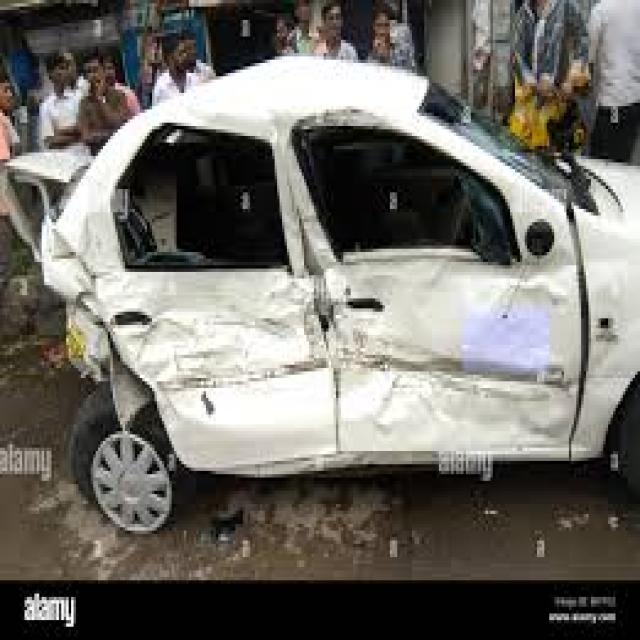severe: (44, 63, 640, 448)
